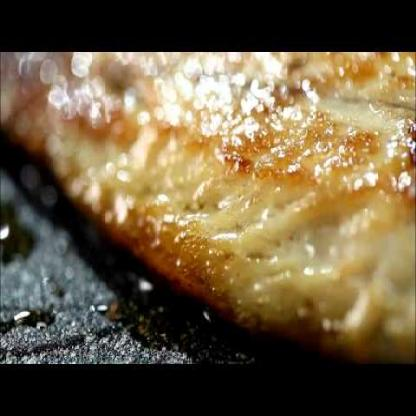Peixe: (0, 15, 414, 354)
